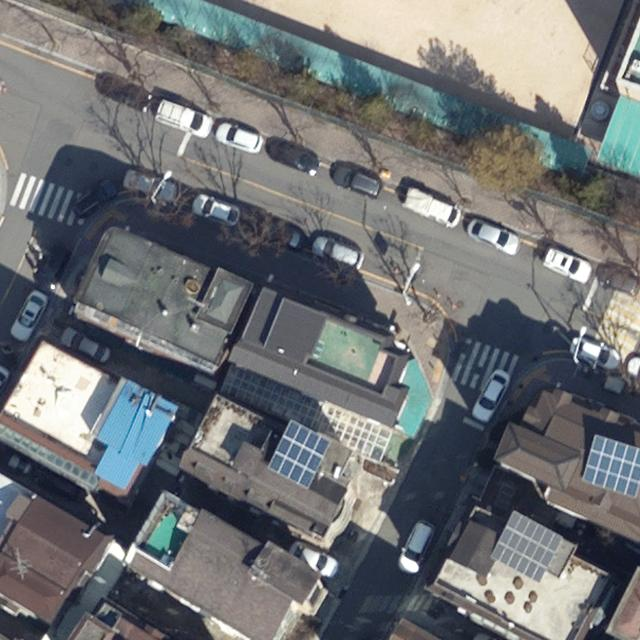panel: (488, 509, 562, 584), (264, 418, 332, 491), (580, 433, 639, 499)
